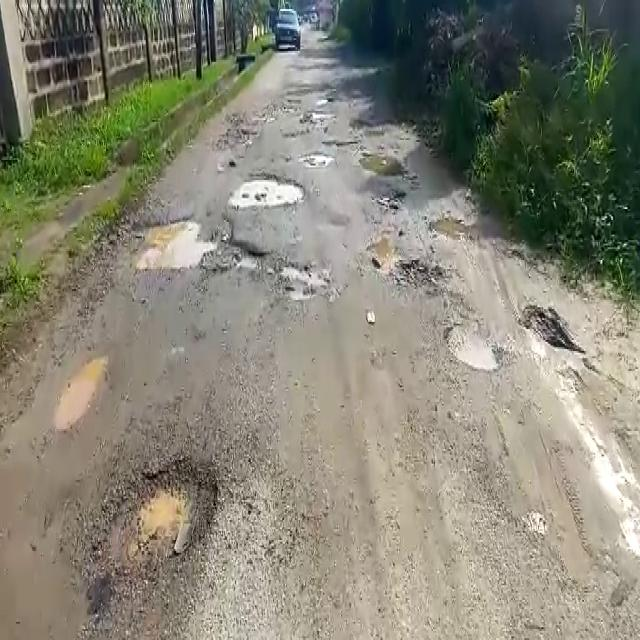Pothole: (82, 450, 230, 610), (127, 213, 258, 276), (444, 314, 502, 376), (227, 170, 306, 205), (429, 210, 478, 244), (301, 150, 334, 164)
